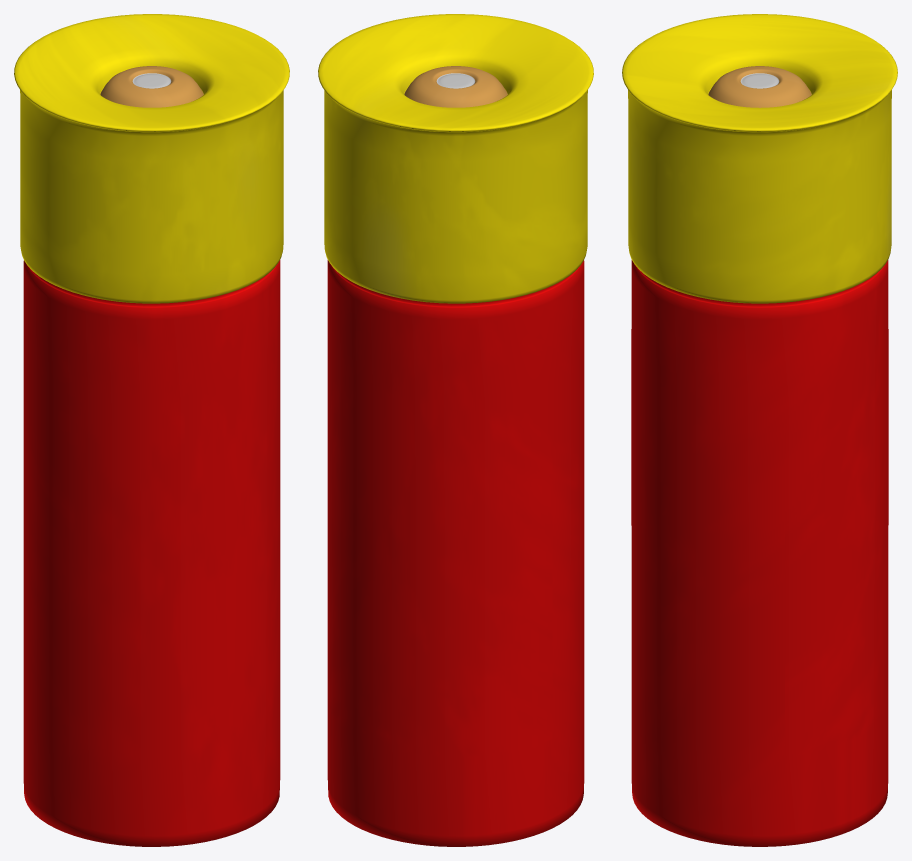
The model's file is Shotgun Shell.fbx.
3 renders of one model, left to right at view 1: azimuth 30°, elevation 25°; view 2: azimuth 150°, elevation 25°; view 3: azimuth 270°, elevation 25°, orthographic.
Parts seen in each view (by area): view 1: Cylinder; view 2: Cylinder; view 3: Cylinder.
Part boxes in pixels (<box>): Cylinder: <box>14,14,289,846</box>; Cylinder: <box>318,14,593,846</box>; Cylinder: <box>622,14,897,846</box>.
Size of the model in its own units: 17.07 by 49.22 by 17.07.
